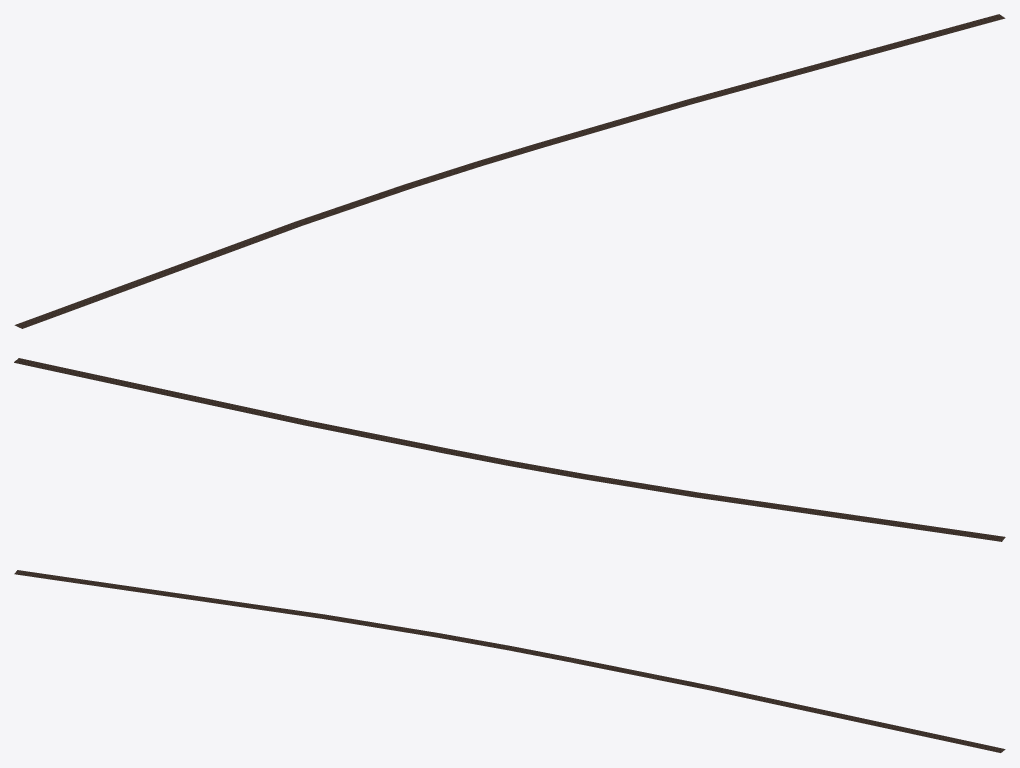
Rendered from kobe_0016.glb.
3 renders of one model, top to bottom at view 1: azimuth 30°, elevation 25°; view 2: azimuth 150°, elevation 25°; view 3: azimuth 330°, elevation 25°, orthographic. The views are drawn at different scales.
Parts seen in each view (by area): view 1: ballast_top, oxidised_rail_profiles; view 2: ballast_top, oxidised_rail_profiles, ballast_left; view 3: ballast_top, oxidised_rail_profiles.
Part boxes in pixels (x1,y1,x2,y2): ballast_top: (14, 14, 1005, 328); oxidised_rail_profiles: (15, 14, 1003, 327); ballast_top: (14, 358, 1005, 540); oxidised_rail_profiles: (15, 358, 1004, 540); ballast_left: (14, 362, 1002, 541); ballast_top: (14, 570, 1005, 752); oxidised_rail_profiles: (15, 570, 1004, 752).
Bounding box in the file's own units: 749 × 0.819 × 96.93.
4 materials, 3 textured.
